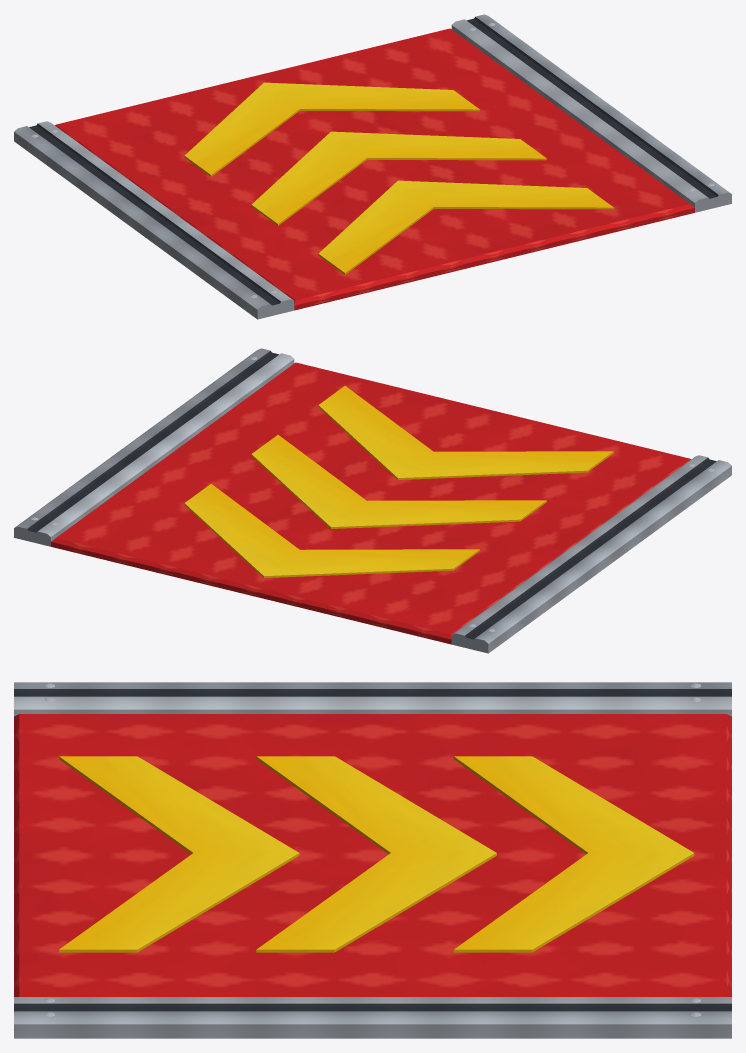
File: Kit_SpeedPad.fbx
The picture shows the model from 3 angles, top to bottom: view 1: azimuth 30°, elevation 25°; view 2: azimuth 150°, elevation 25°; view 3: azimuth 270°, elevation 25°; orthographic projection. The views are drawn at different scales.
Parts seen in each view (by area): view 1: Kit_SpeedPad; view 2: Kit_SpeedPad; view 3: Kit_SpeedPad.
Boxes of the visible parts, x1,y1,x2,y2 form: Kit_SpeedPad: [14, 14, 731, 319]; Kit_SpeedPad: [14, 348, 731, 653]; Kit_SpeedPad: [14, 682, 731, 1038].
Size of the model in its own units: 18 by 0.495 by 16.
Materials: 1 (1 with a texture image).
